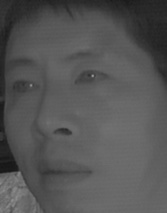eye: (70, 66, 110, 92), (8, 74, 41, 99)
mouth: (34, 151, 91, 190)
